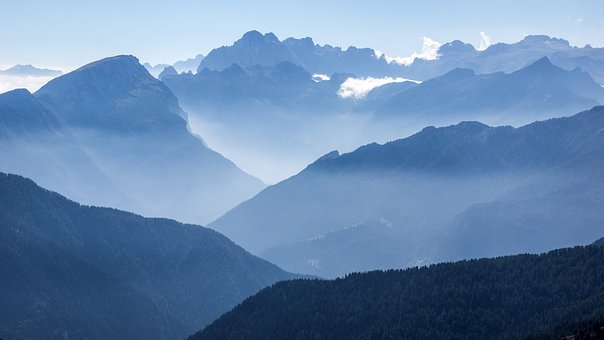mountain: (8, 8, 601, 340)
